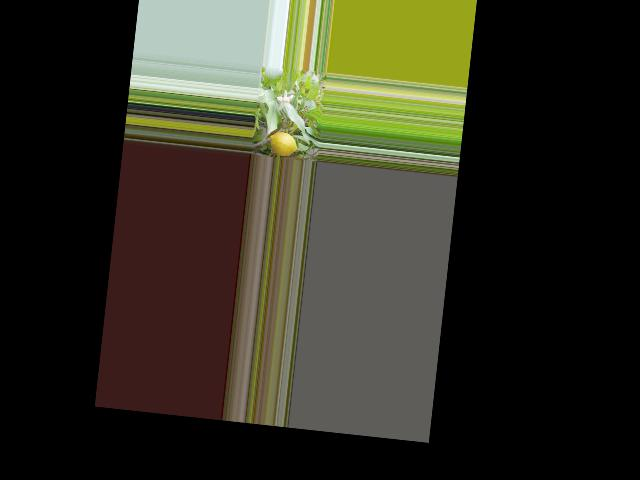lemon: (266, 127, 299, 158)
